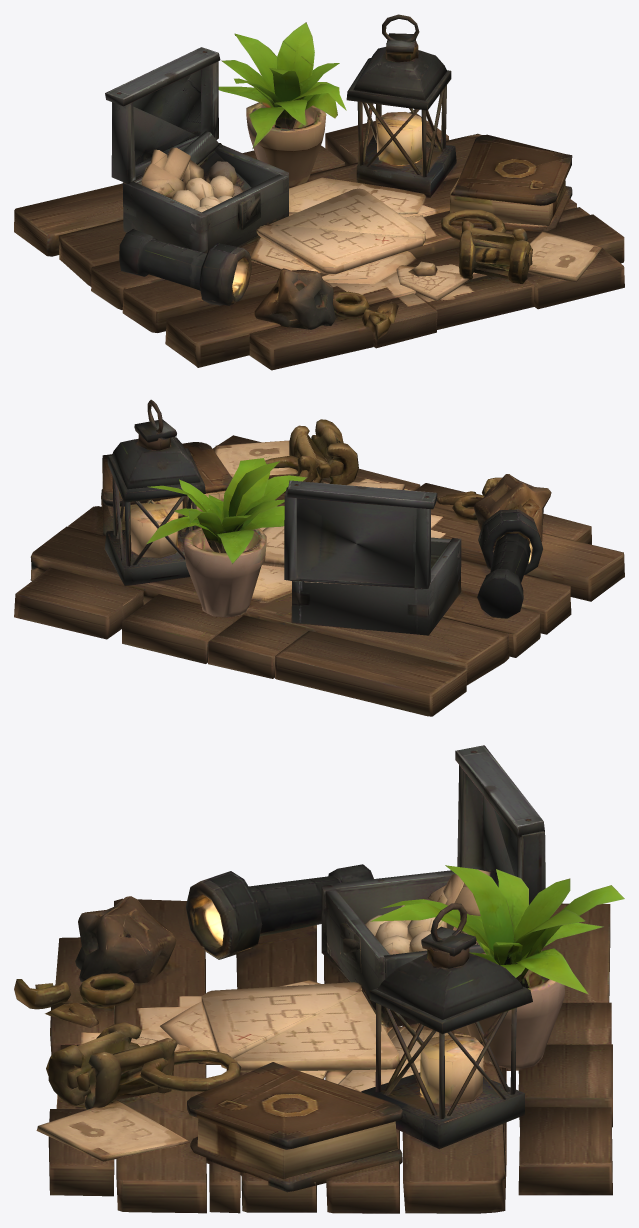
Rendered from kvest.glb.
The picture shows the model from 3 angles, top to bottom: view 1: azimuth 30°, elevation 25°; view 2: azimuth 150°, elevation 25°; view 3: azimuth 270°, elevation 25°; orthographic projection. The views are drawn at different scales.
Visible parts, largest first — view 1: mesh_node; view 2: mesh_node; view 3: mesh_node.
Boxes of the visible parts, x1=… form: mesh_node: x1=14, y1=14, x2=624, y2=370; mesh_node: x1=14, y1=399, x2=624, y2=716; mesh_node: x1=14, y1=745, x2=624, y2=1213.
Bounding box in the file's own units: 0.9961 × 0.3936 × 0.8965.
Materials: 1 (1 with a texture image).
